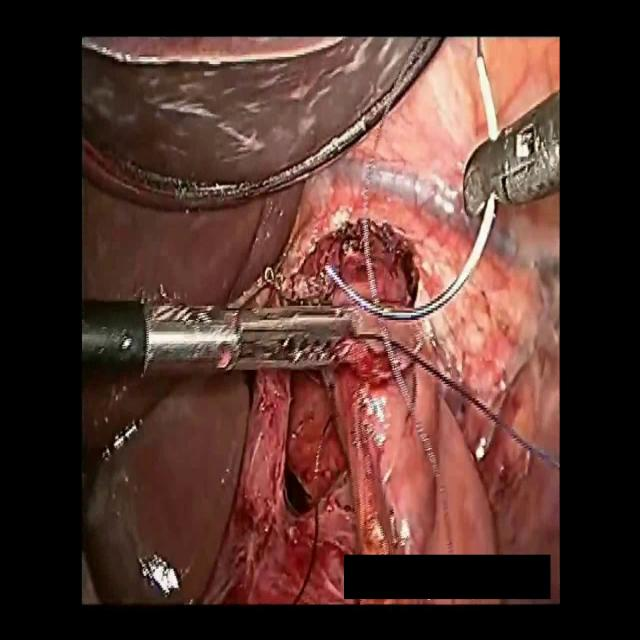surgical-area: (82, 36, 560, 604)
surgical-tool: (83, 301, 361, 375), (462, 92, 560, 213)
